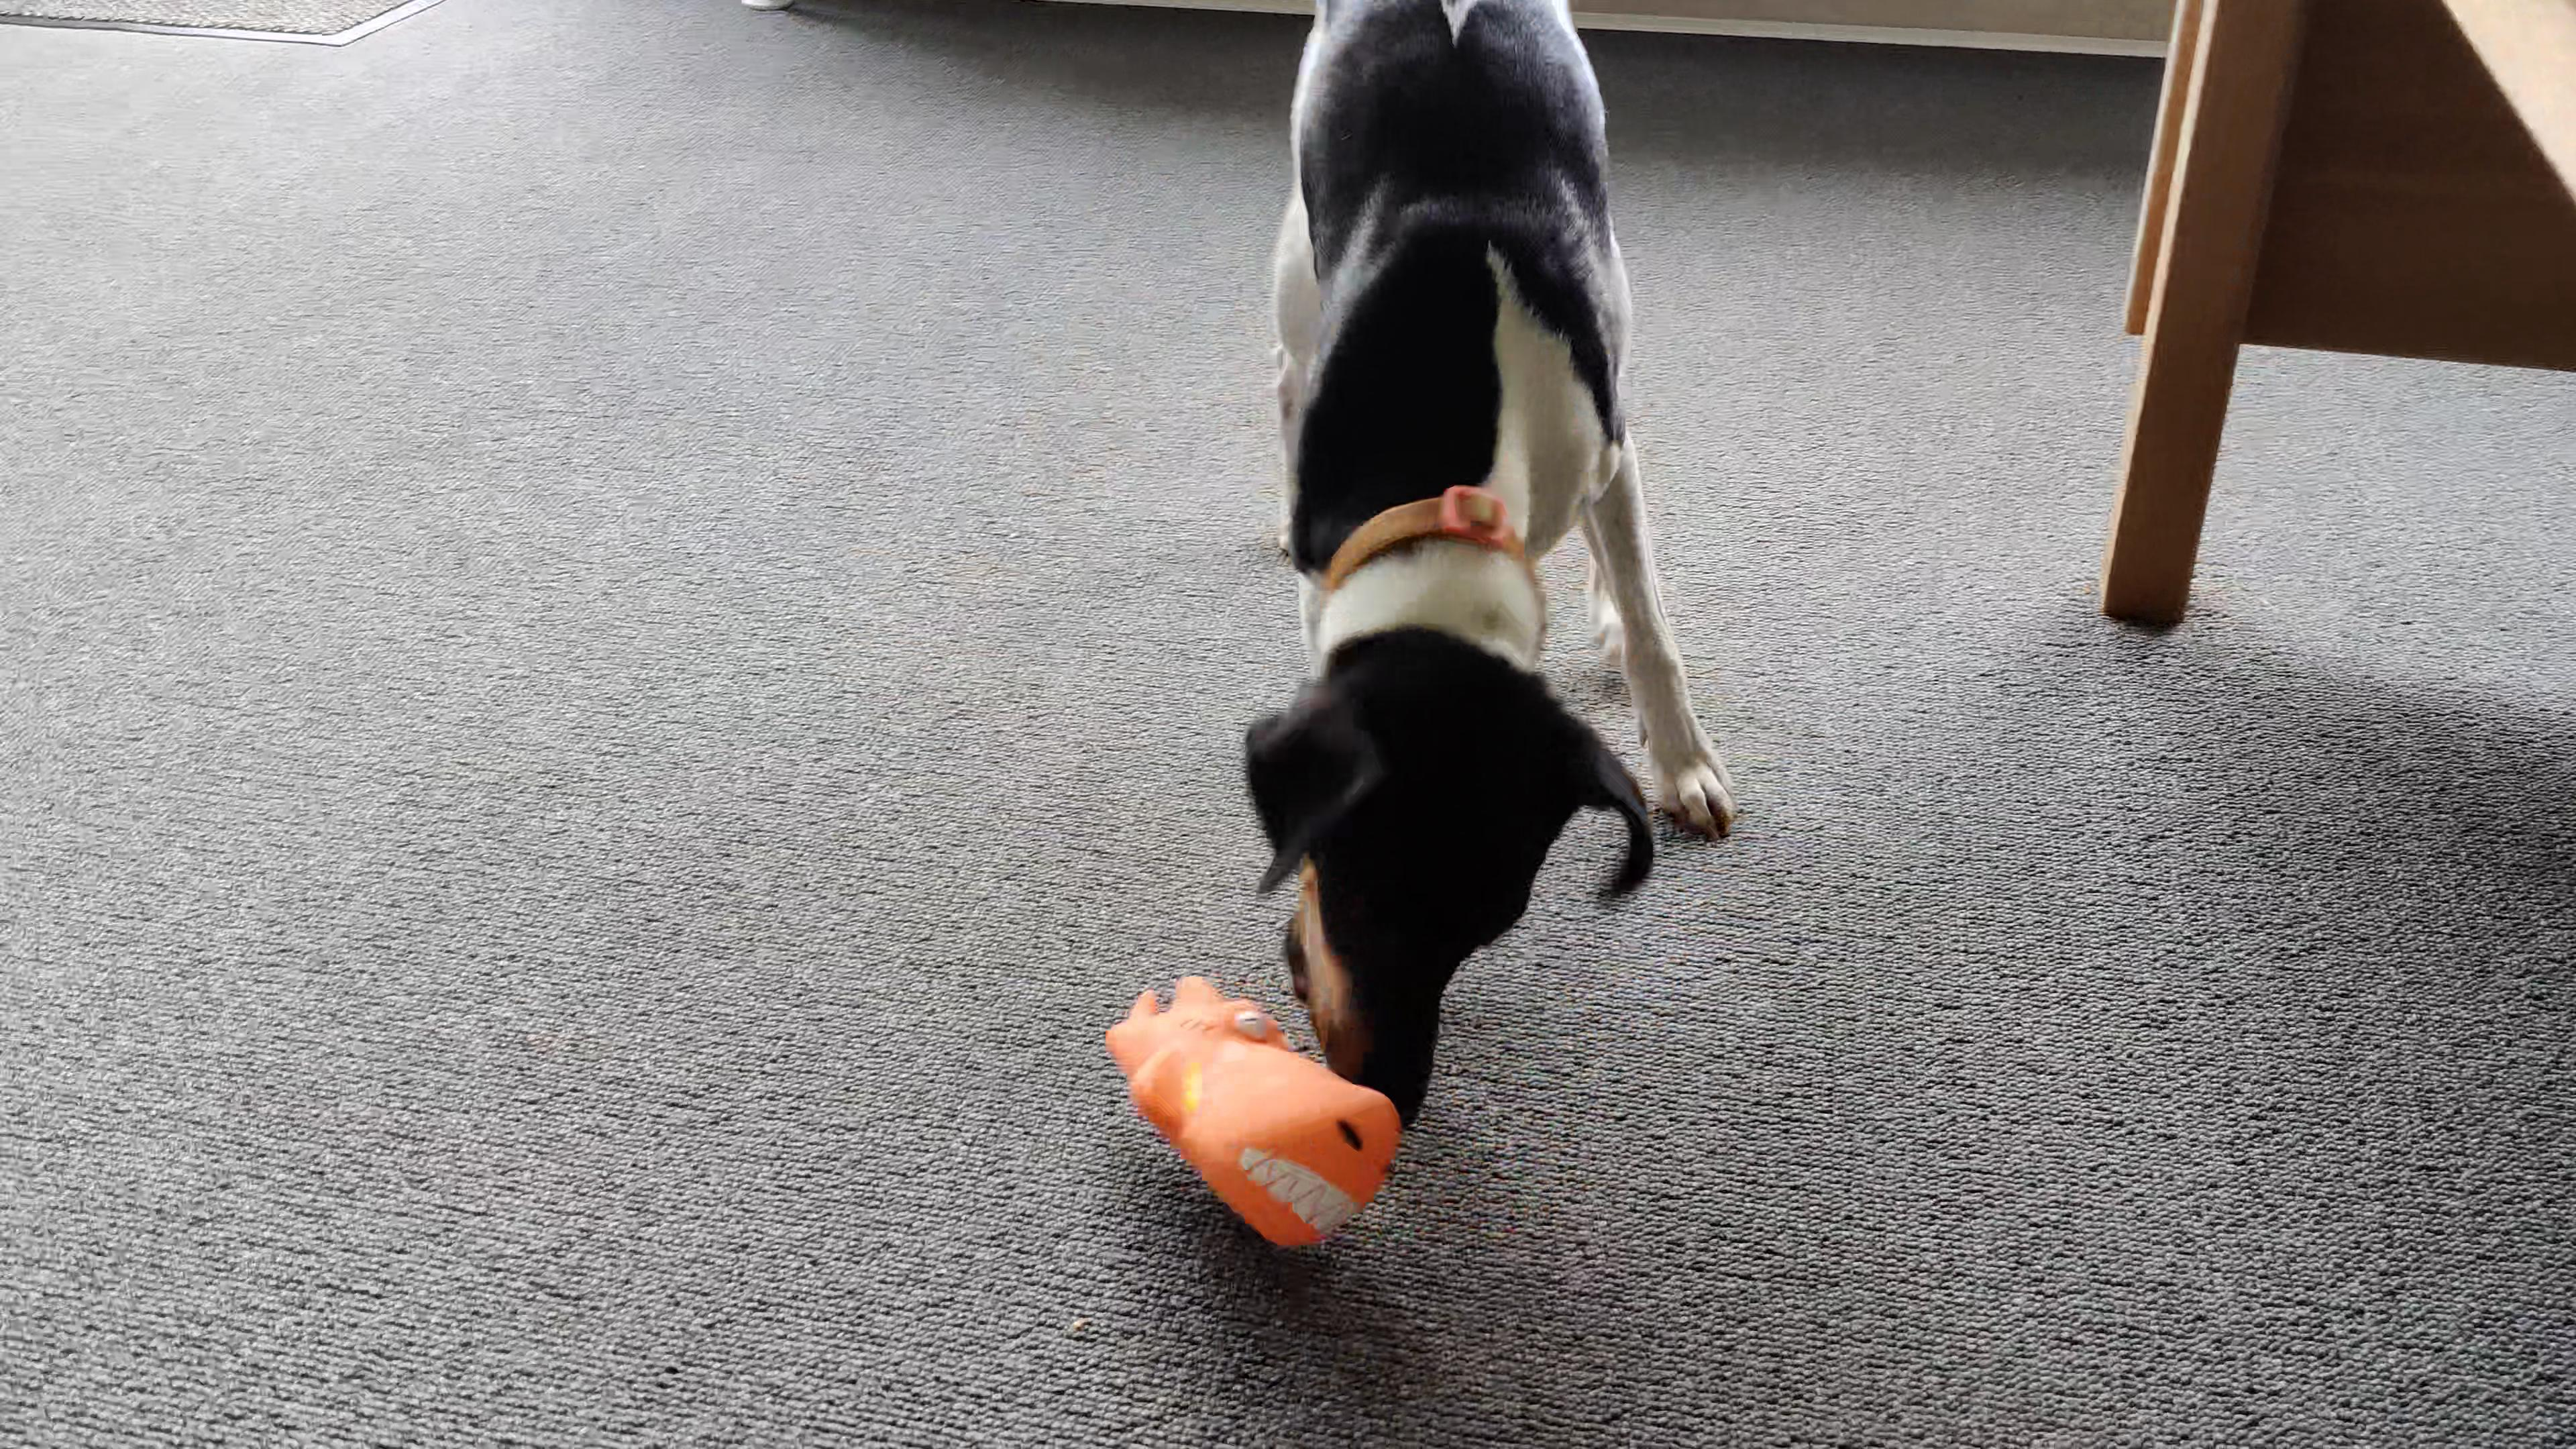Dog: (1235, 0, 1743, 1129)
